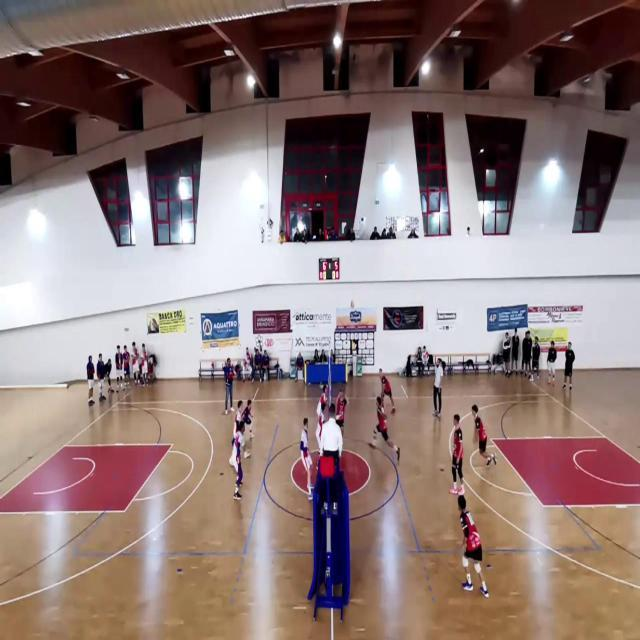volleyball: (276, 234, 284, 244)
